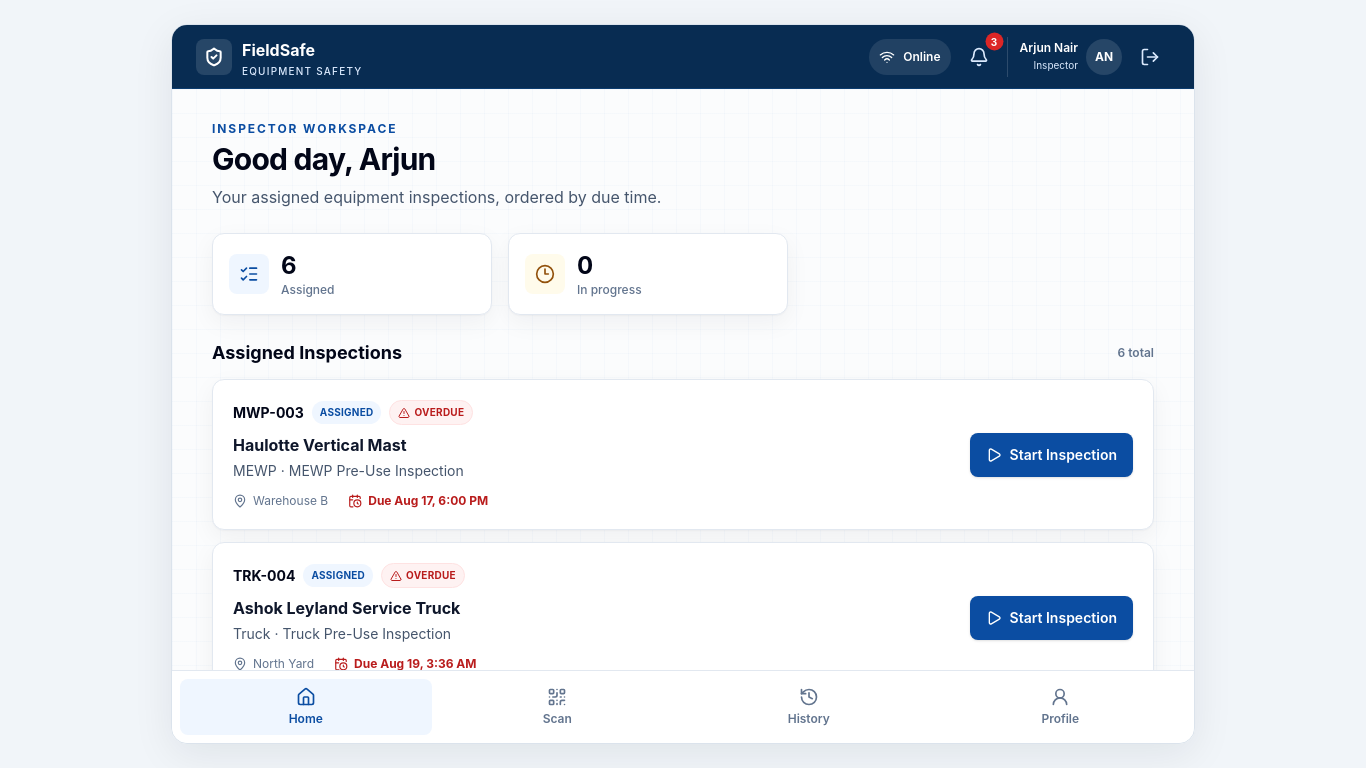
TASK-029 Pass B product hardening › leaving an assignment scan before confirmation does not create Continue state
Click the button "Start Inspection" in the row of "MEWP Pre-Use Inspection": (1051, 454) left=970, top=432, right=1133, bottom=476
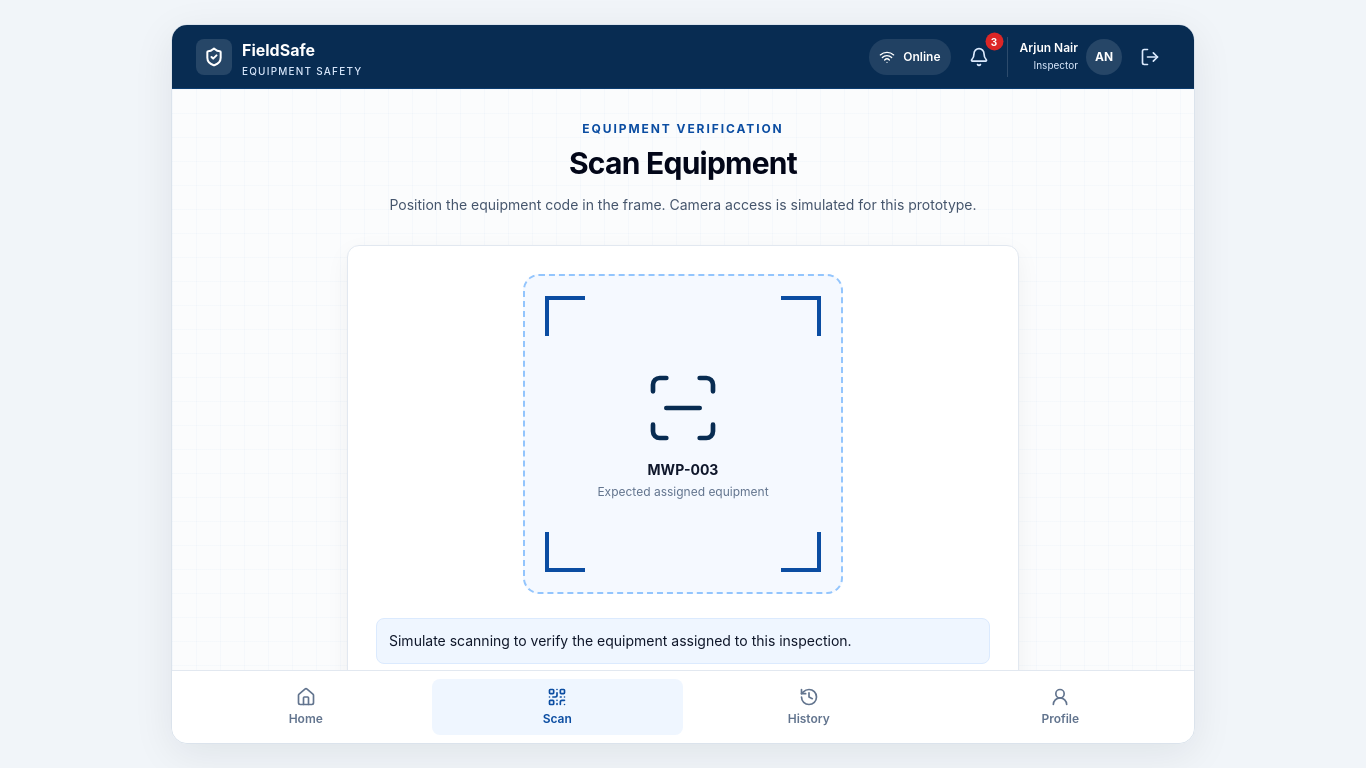
Now the heading "Scan Equipment" is shown, box left=569, top=145, right=797, bottom=181
